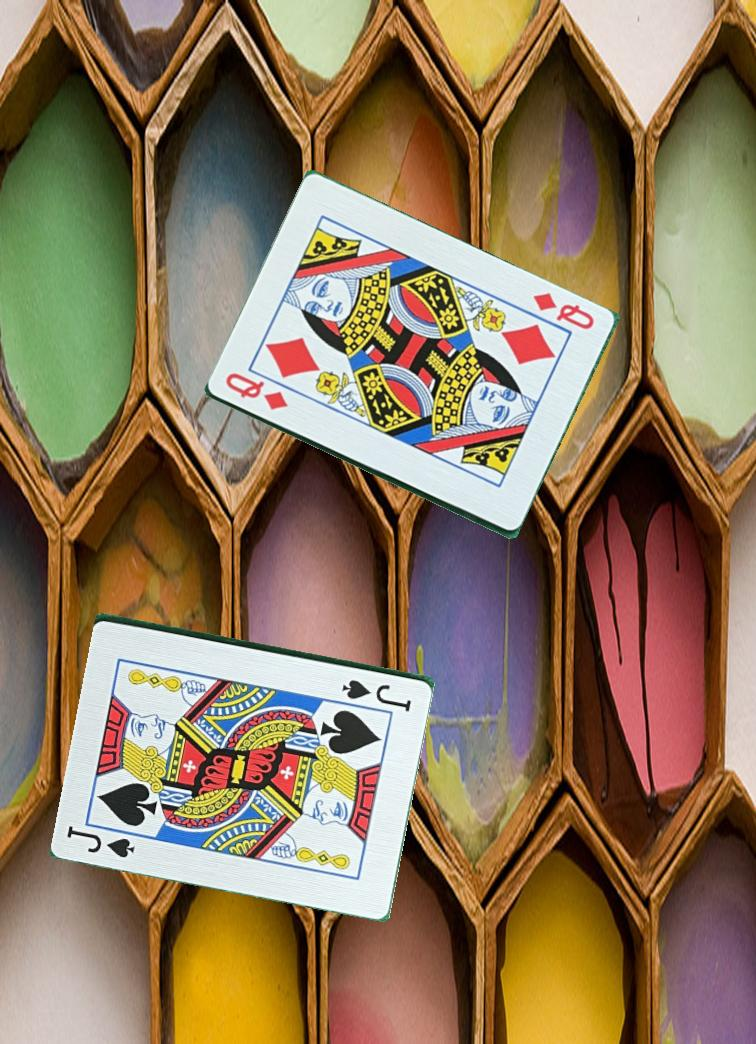js: (63, 822, 139, 861), (338, 675, 415, 710)
qd: (221, 368, 291, 413), (528, 289, 597, 333)
